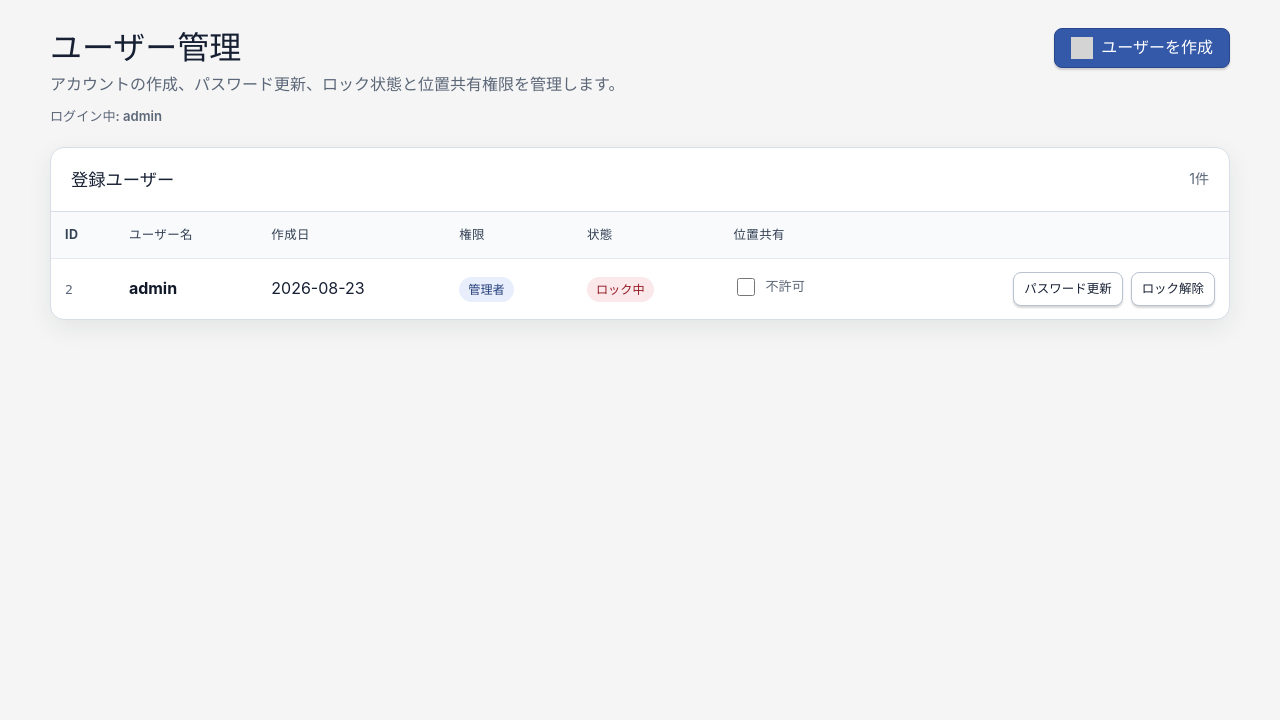
Test: 管理ユーザー一覧画面 › 有効なアカウントを作成してユーザーを再取得しフォームをクリアする
Click the button with class "btn-head-image": click(1142, 48) x1=1054 y1=28 x2=1230 y2=68
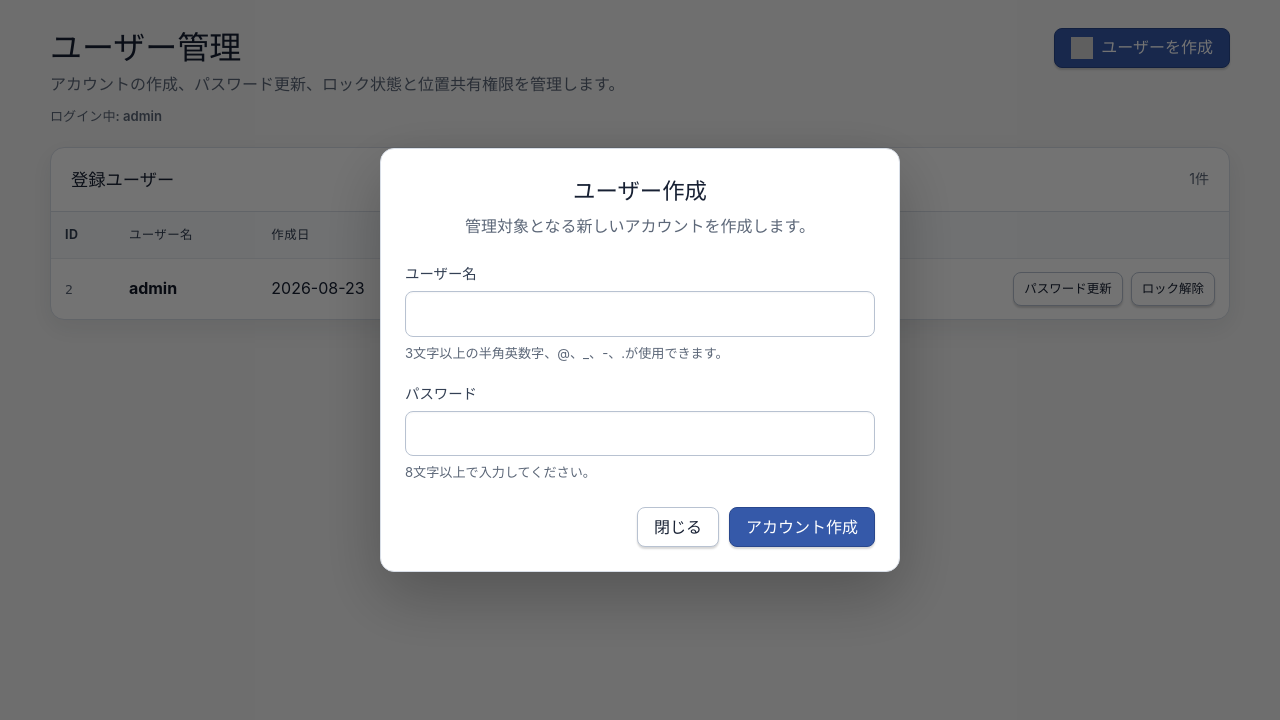
In the field labelled "ユーザー名 3文字以上の半角英数字、@、_、-、.が使用できます。": (640, 314) x1=405 y1=291 x2=875 y2=337, type "new.user"
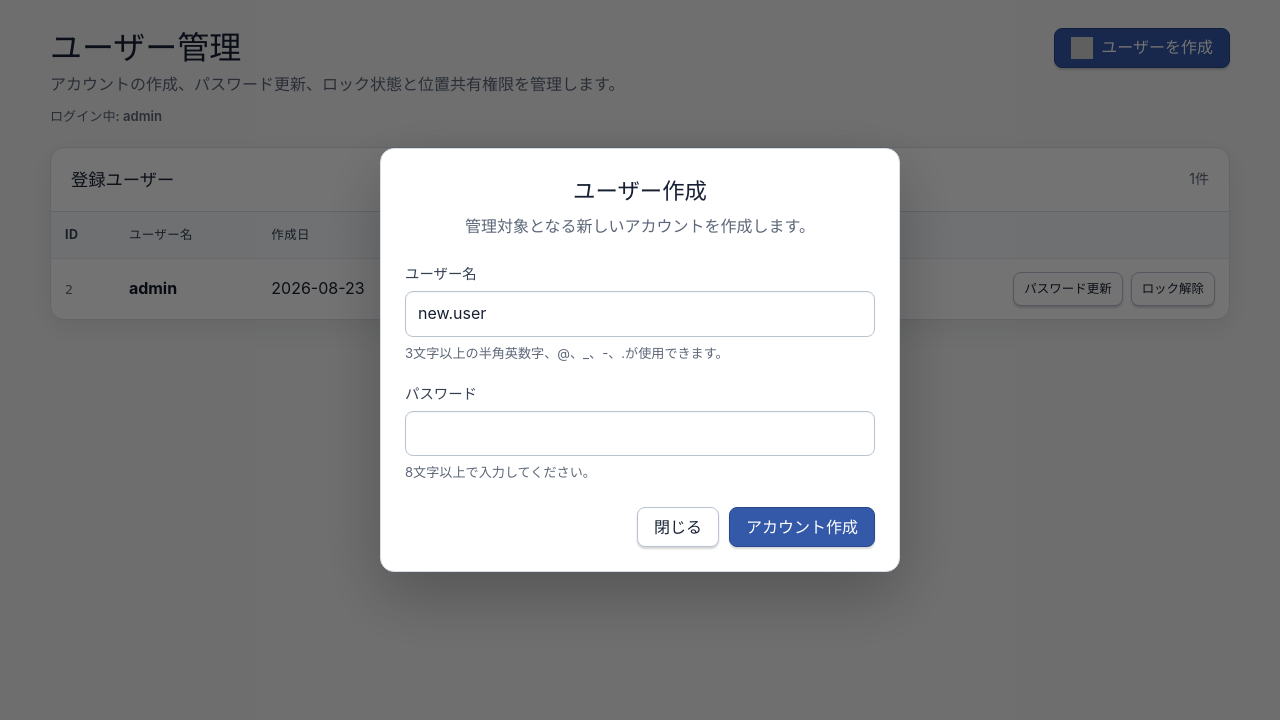
In the password field labelled "パスワード 8文字以上で入力してください。": (640, 434) x1=405 y1=411 x2=875 y2=456, type "password123"
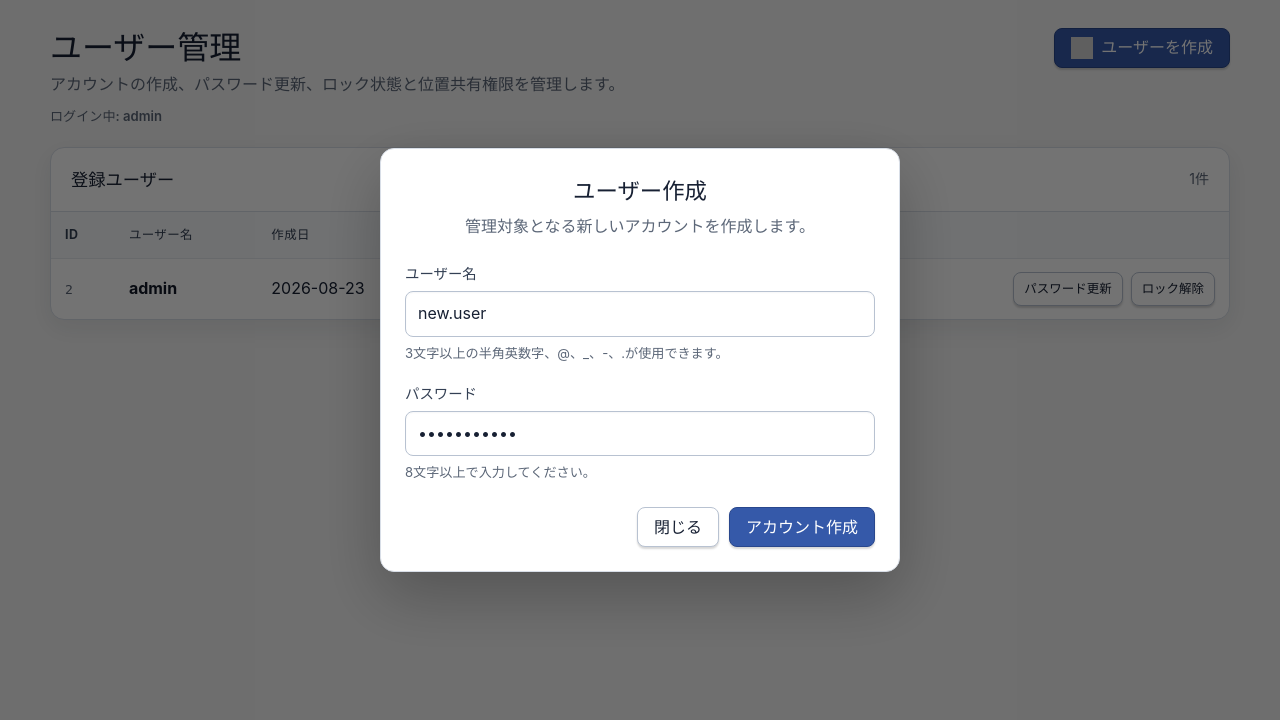
Submit the form, box x1=405 y1=262 x2=875 y2=547
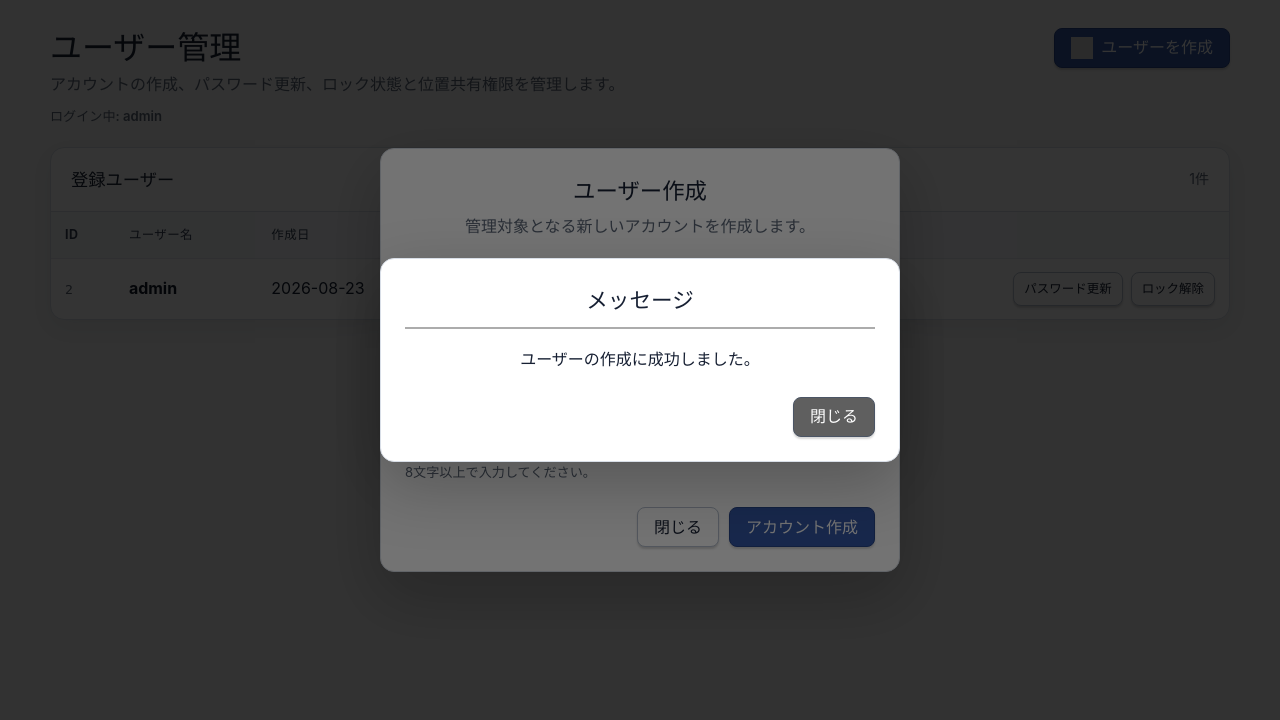
Now the text "ユーザーの作成に成功しました。" is shown, box x1=520 y1=350 x2=760 y2=370
Now the field labelled "ユーザー名 3文字以上の半角英数字、@、_、-、.が使用できます。" is empty, box x1=405 y1=291 x2=875 y2=337
Now the password field labelled "パスワード 8文字以上で入力してください。" is empty, box x1=405 y1=411 x2=875 y2=456
